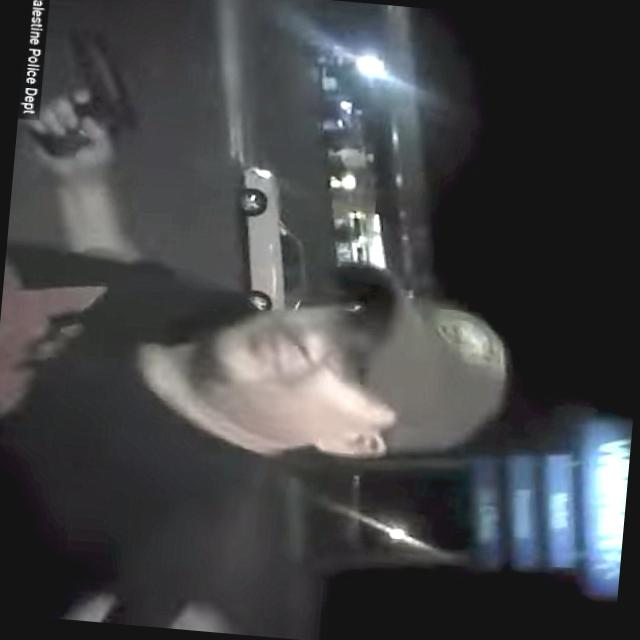handgun: (36, 23, 150, 172)
